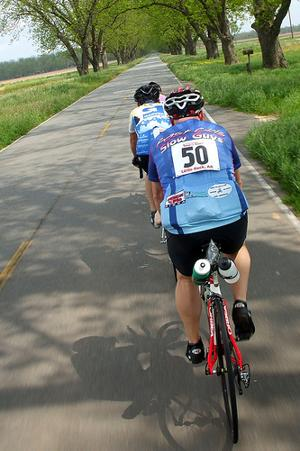person: (148, 81, 258, 365)
